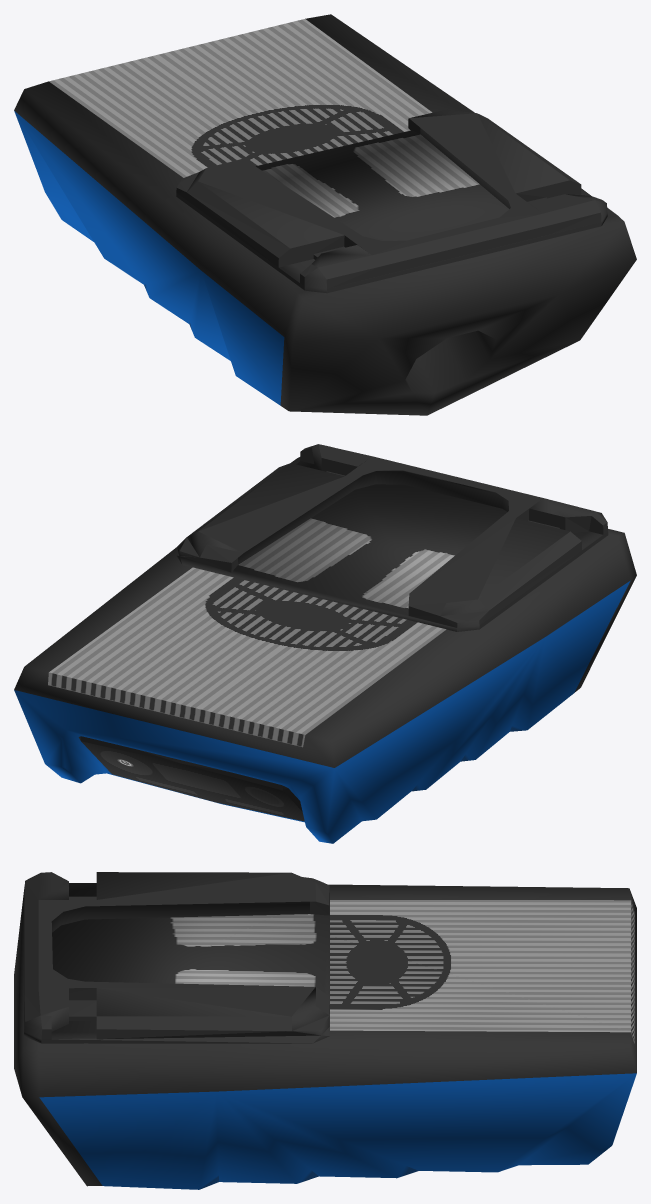
File: ST-LIDAR-case-2.dae
3 renders of one model, top to bottom at view 1: azimuth 30°, elevation 25°; view 2: azimuth 150°, elevation 25°; view 3: azimuth 270°, elevation 25°, orthographic. The views are drawn at different scales.
Visible parts, largest first — view 1: st lider tex; view 2: st lider tex; view 3: st lider tex.
Boxes of the visible parts, <box> form: st lider tex: <box>14,14,636,415</box>; st lider tex: <box>14,444,636,843</box>; st lider tex: <box>14,872,636,1189</box>.
Bounding box in the file's own units: 0.1335 × 0.1974 × 0.0751.
1 material, 1 textured.
